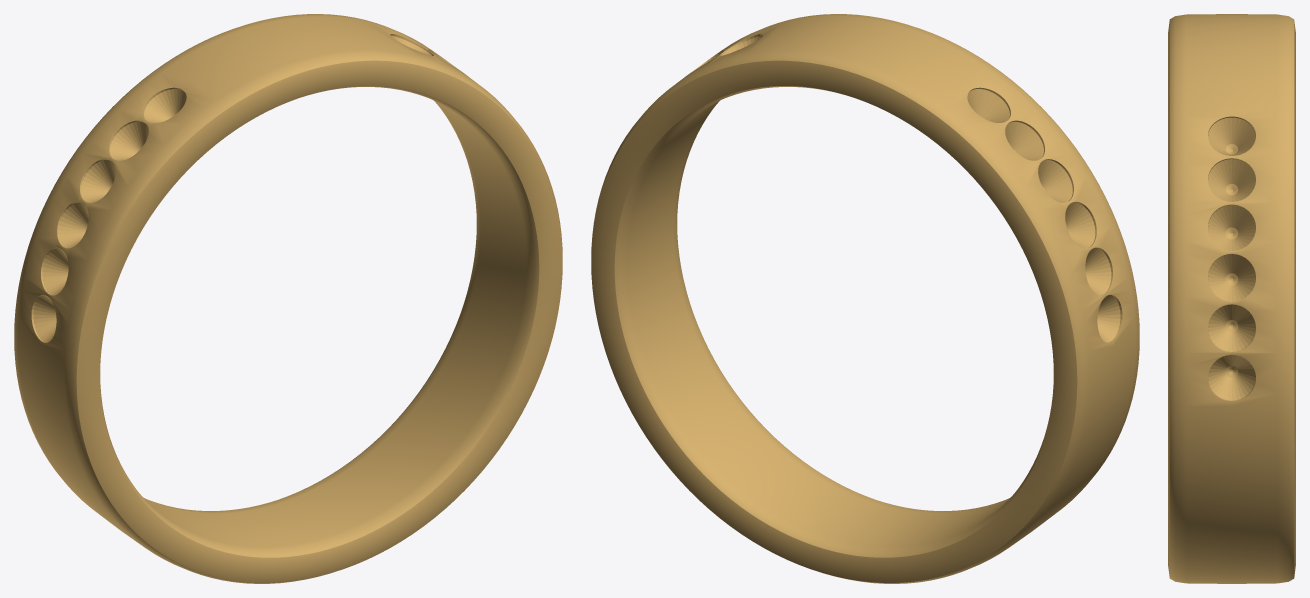
The model's file is wide-channel.glb.
3 views of the same model, side by side, from view 1: azimuth 30°, elevation 25°; view 2: azimuth 150°, elevation 25°; view 3: azimuth 270°, elevation 25° (orthographic).
Parts seen in each view (by area): view 1: Band; view 2: Band; view 3: Band.
Boxes of the visible parts, <box> form: Band: <box>14,14,562,583</box>; Band: <box>591,14,1139,583</box>; Band: <box>1168,14,1295,583</box>.
Bounding box in the file's own units: 19.6 × 19.6 × 4.4.
